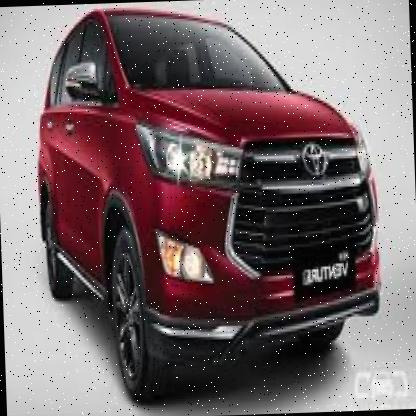car: (27, 0, 392, 408)
